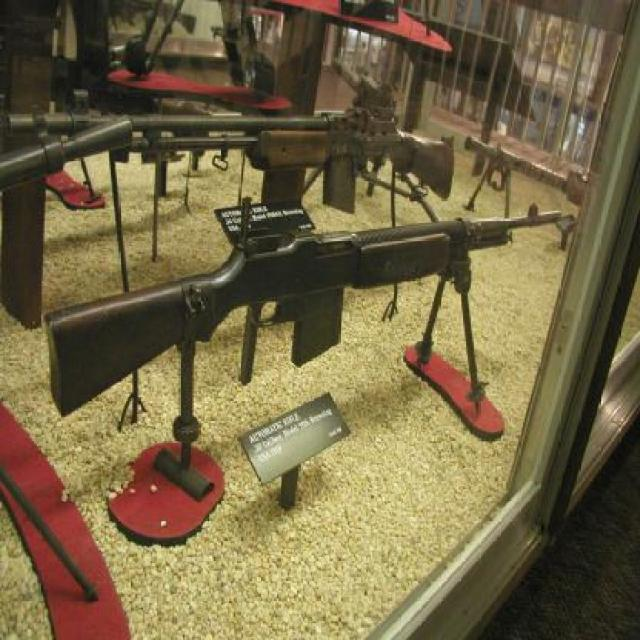weapon: (49, 218, 567, 392), (8, 110, 456, 201), (0, 122, 130, 186)
